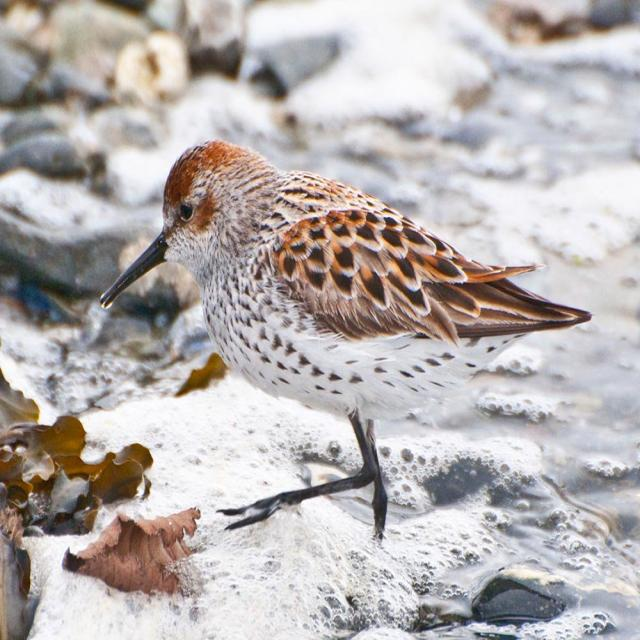Sandpiper: (106, 136, 574, 527)
